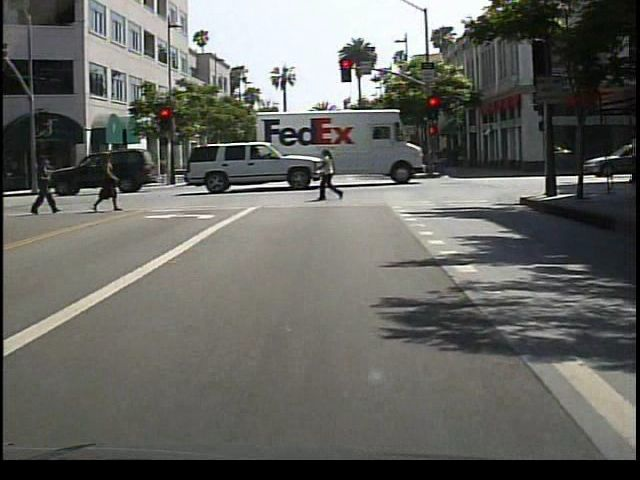person: (316, 147, 348, 207), (35, 153, 65, 214), (95, 151, 123, 215)
